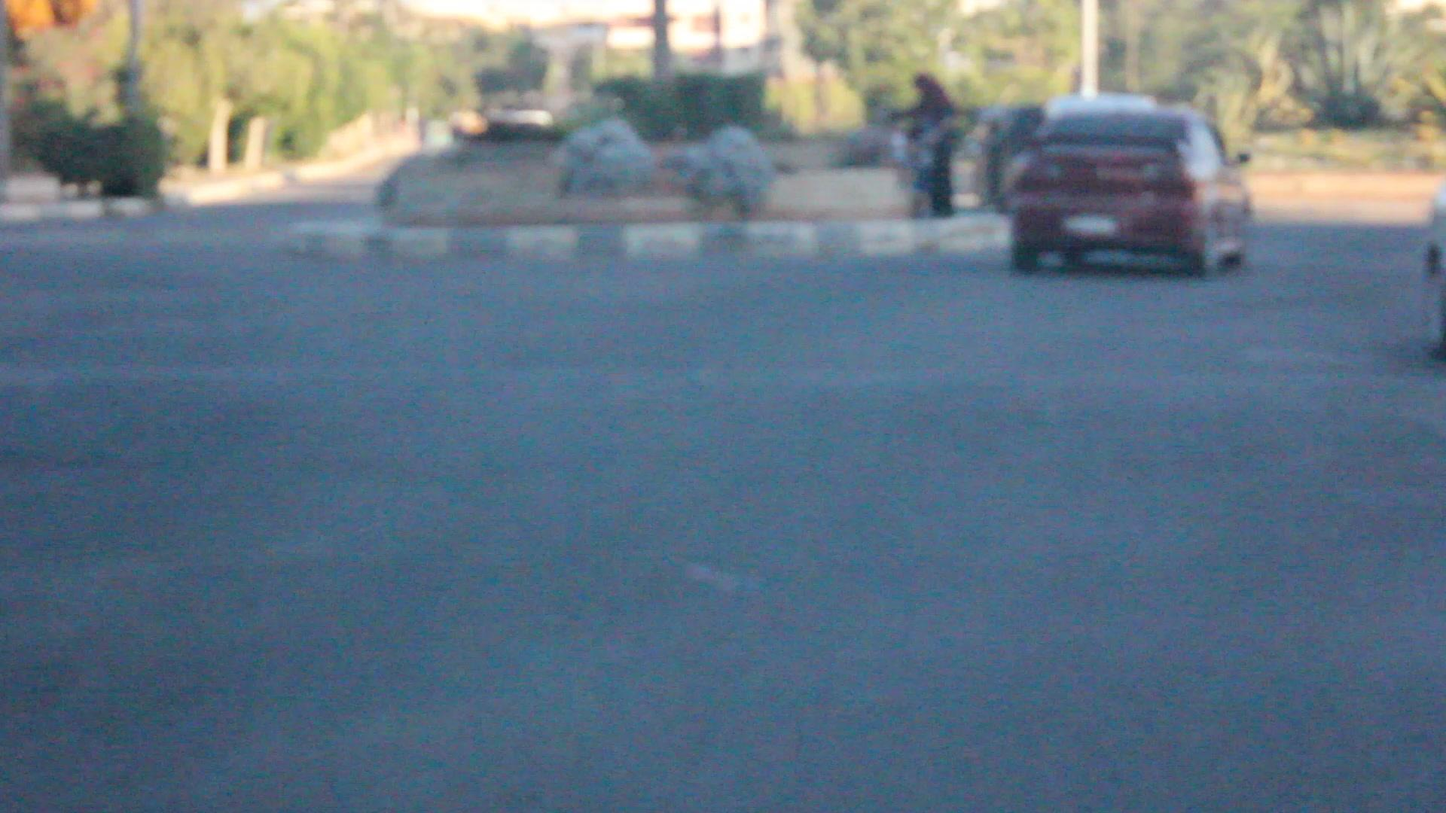Bump: (0, 369, 1446, 478)
